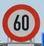Gioi han toc do: (2, 3, 41, 41)
